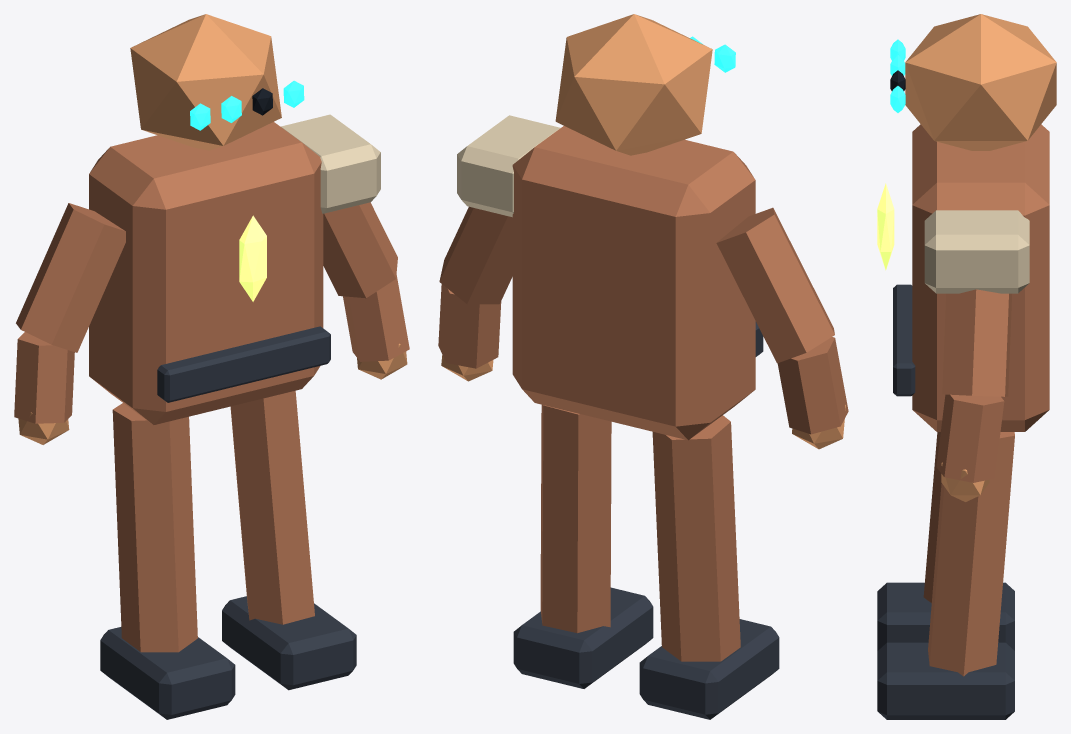
File: npcs_037_seed11.glb
3 views of the same model, side by side, from view 1: azimuth 30°, elevation 25°; view 2: azimuth 150°, elevation 25°; view 3: azimuth 270°, elevation 25° (orthographic). The views are drawn at different scales.
Visible parts, largest first — view 1: npcs_037_seed11; view 2: npcs_037_seed11; view 3: npcs_037_seed11.
Boxes of the visible parts, x1,y1,x2,y2 form: npcs_037_seed11: (14,14,409,719); npcs_037_seed11: (438,14,848,719); npcs_037_seed11: (877,14,1056,719).
Bounding box in the file's own units: 1.18 × 1.89 × 0.4657.
